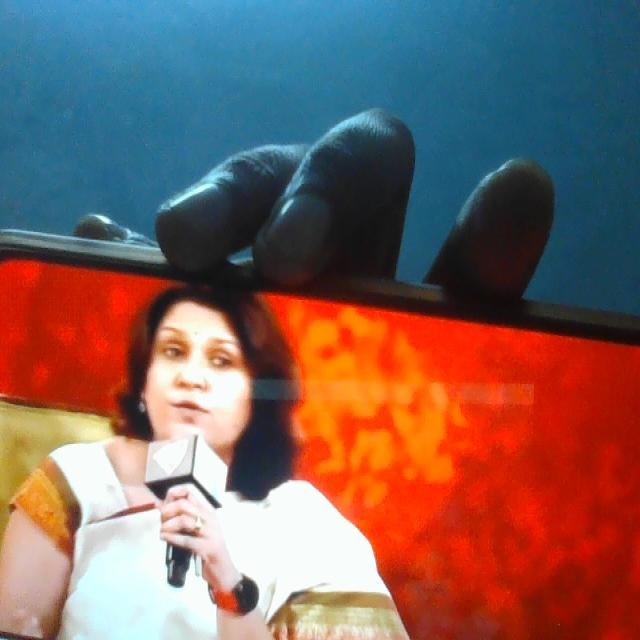fake: (144, 255, 254, 462)
